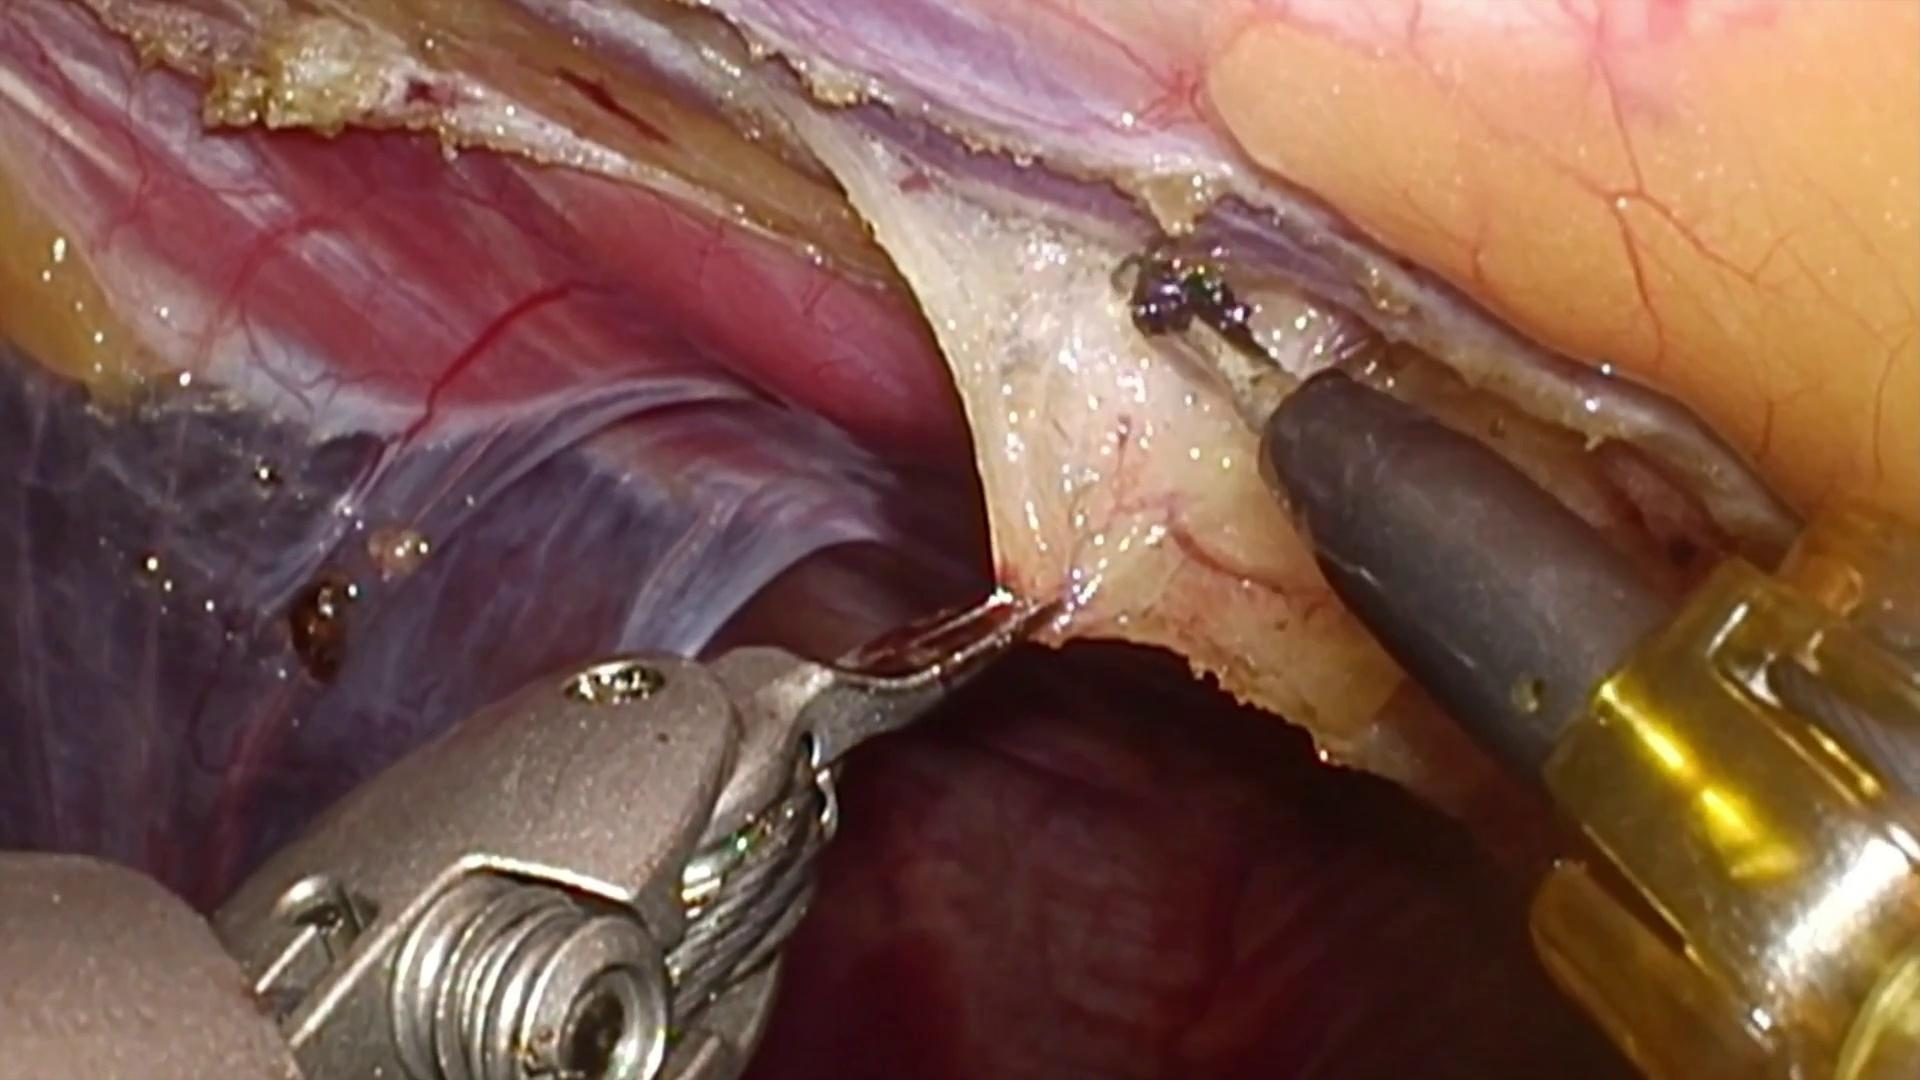Cautery_Spatula: (1138, 266, 1680, 794)
Debakey: (716, 562, 1075, 802)
